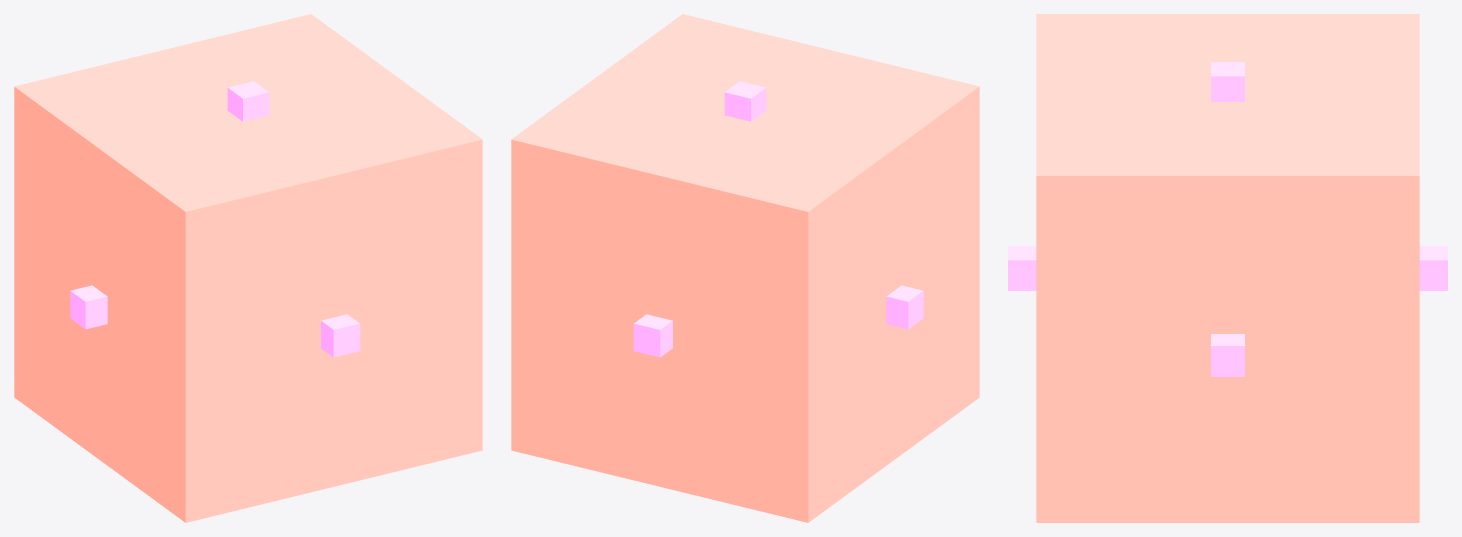
The model's file is interact_enemy_cube.glb.
3 views of the same model, side by side, from view 1: azimuth 30°, elevation 25°; view 2: azimuth 150°, elevation 25°; view 3: azimuth 270°, elevation 25° (orthographic). The views are drawn at different scales.
Visible parts, largest first — view 1: interact_enemy_cube; view 2: interact_enemy_cube; view 3: interact_enemy_cube.
Part boxes in pixels (box(x1,y1,x2,y2)): interact_enemy_cube: box(14, 14, 482, 522); interact_enemy_cube: box(511, 14, 979, 522); interact_enemy_cube: box(1008, 14, 1447, 522).
Bounding box in the file's own units: 1.55 × 1.55 × 1.55.
